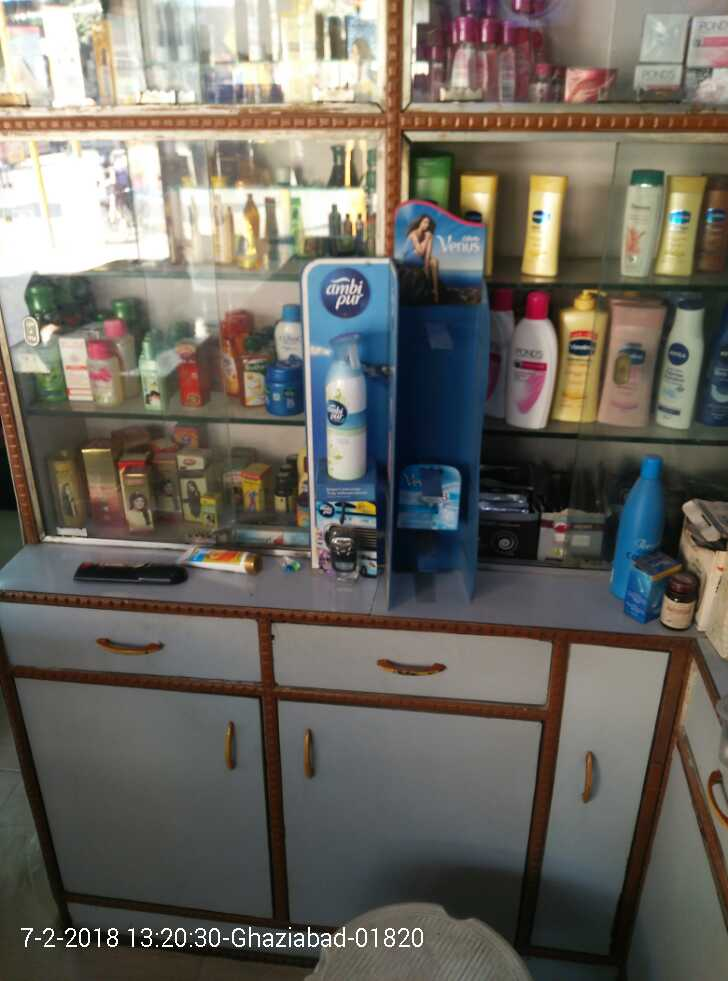home: (311, 327, 392, 494), (312, 501, 381, 586)
